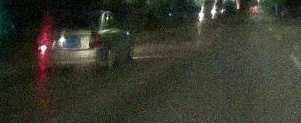L_light: (39, 35, 53, 51)
R_light: (88, 33, 102, 49)
T_light: (71, 15, 79, 18)
night-left: (37, 9, 104, 78)
